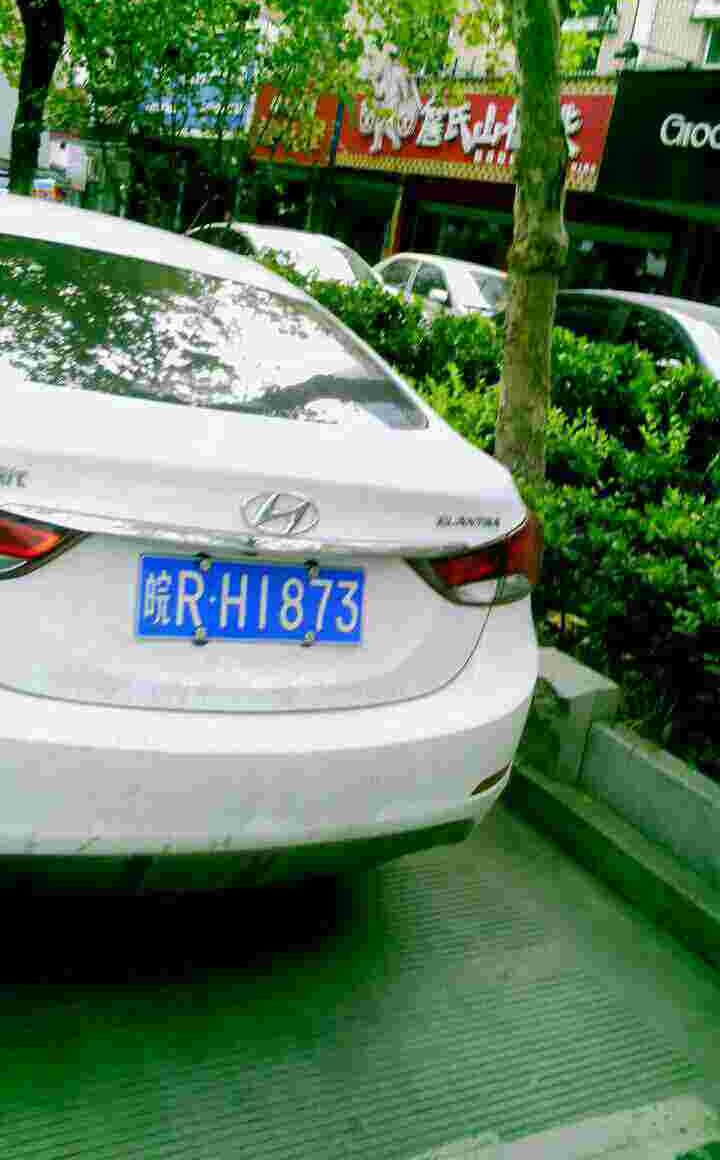plate: (143, 552, 376, 652)
